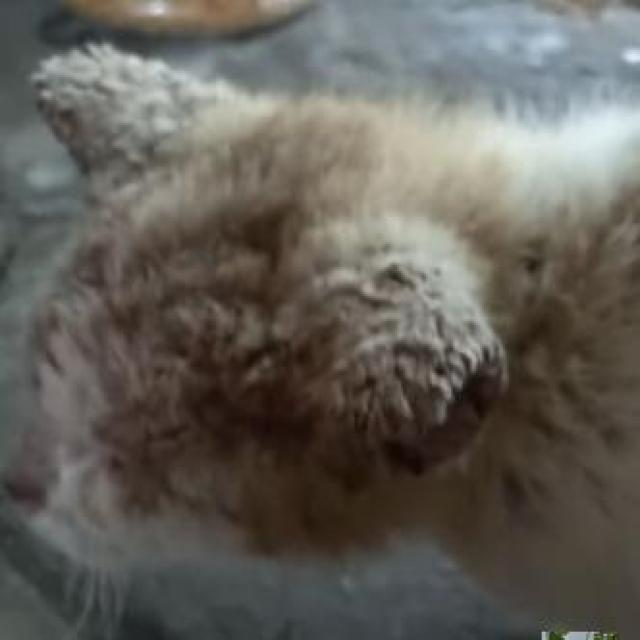ghe: (284, 260, 526, 488)
